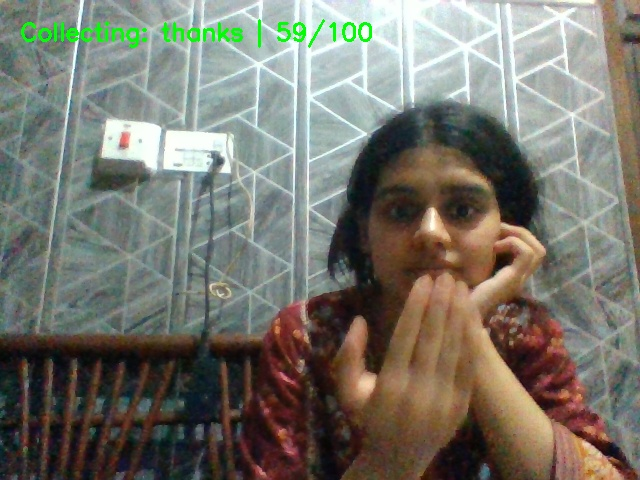thanks: (321, 274, 527, 480)
